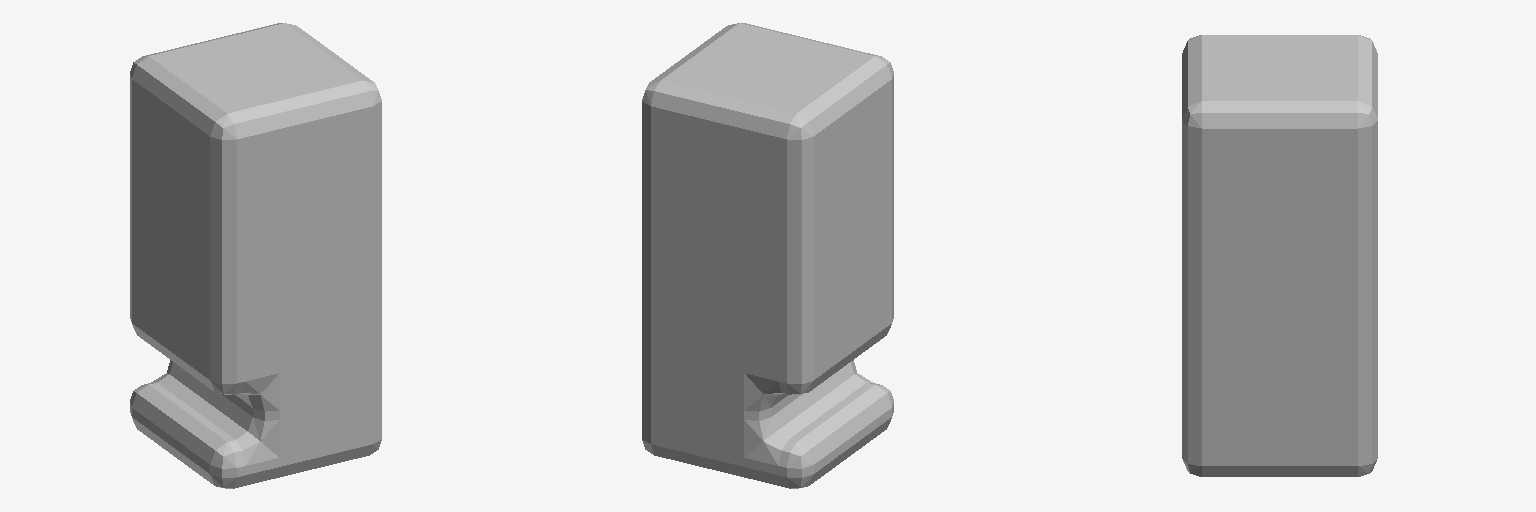
The model's file is LeftArm.obj.
3 renders of one model, left to right at view 1: azimuth 30°, elevation 25°; view 2: azimuth 150°, elevation 25°; view 3: azimuth 270°, elevation 25°, orthographic.
Visible parts, largest first — view 1: LEFTARM; view 2: LEFTARM; view 3: LEFTARM.
Part boxes in pixels (x1,y1,x2,y2): LEFTARM: (130, 23, 381, 488); LEFTARM: (642, 23, 893, 488); LEFTARM: (1182, 35, 1377, 476).
Bounding box in the file's own units: 1 × 2.11 × 1.